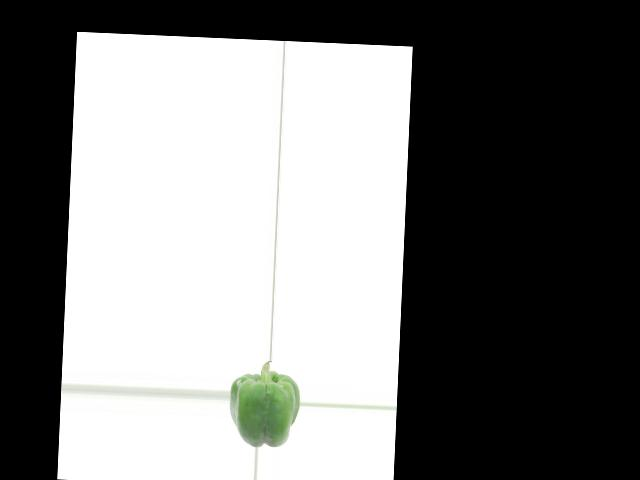bell_pepper: (229, 360, 301, 449)
